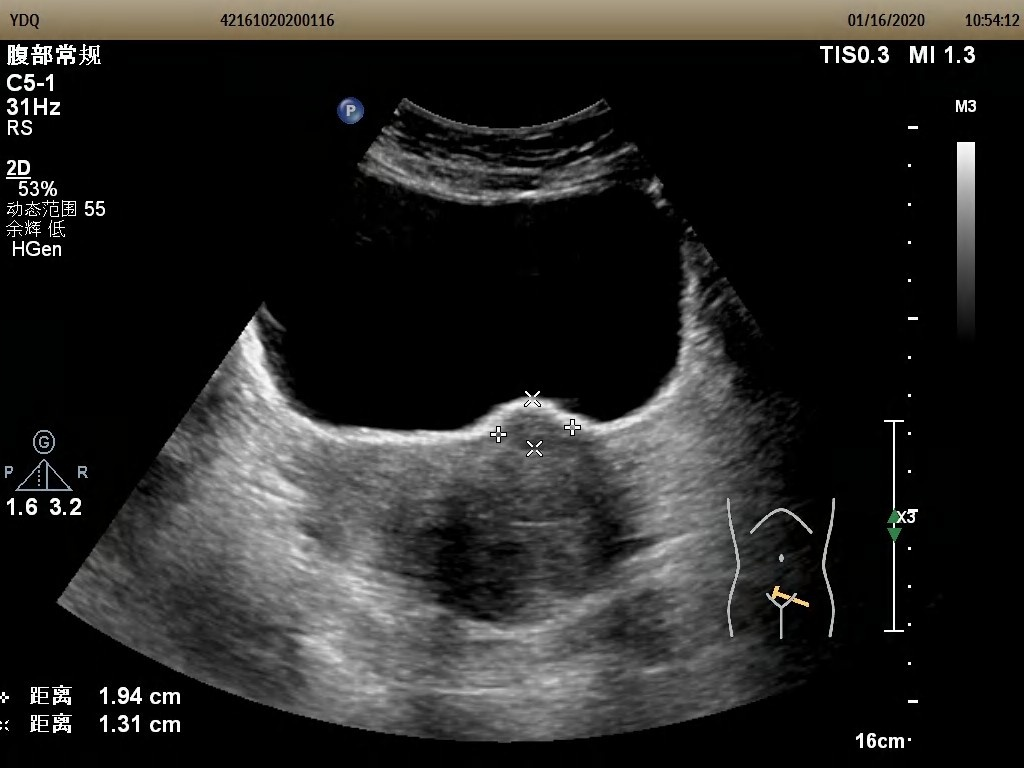肌瘤: (499, 397, 574, 449)
